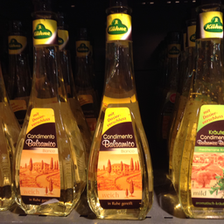vinegar: (11, 16, 85, 219), (88, 11, 157, 219), (173, 10, 224, 219)
